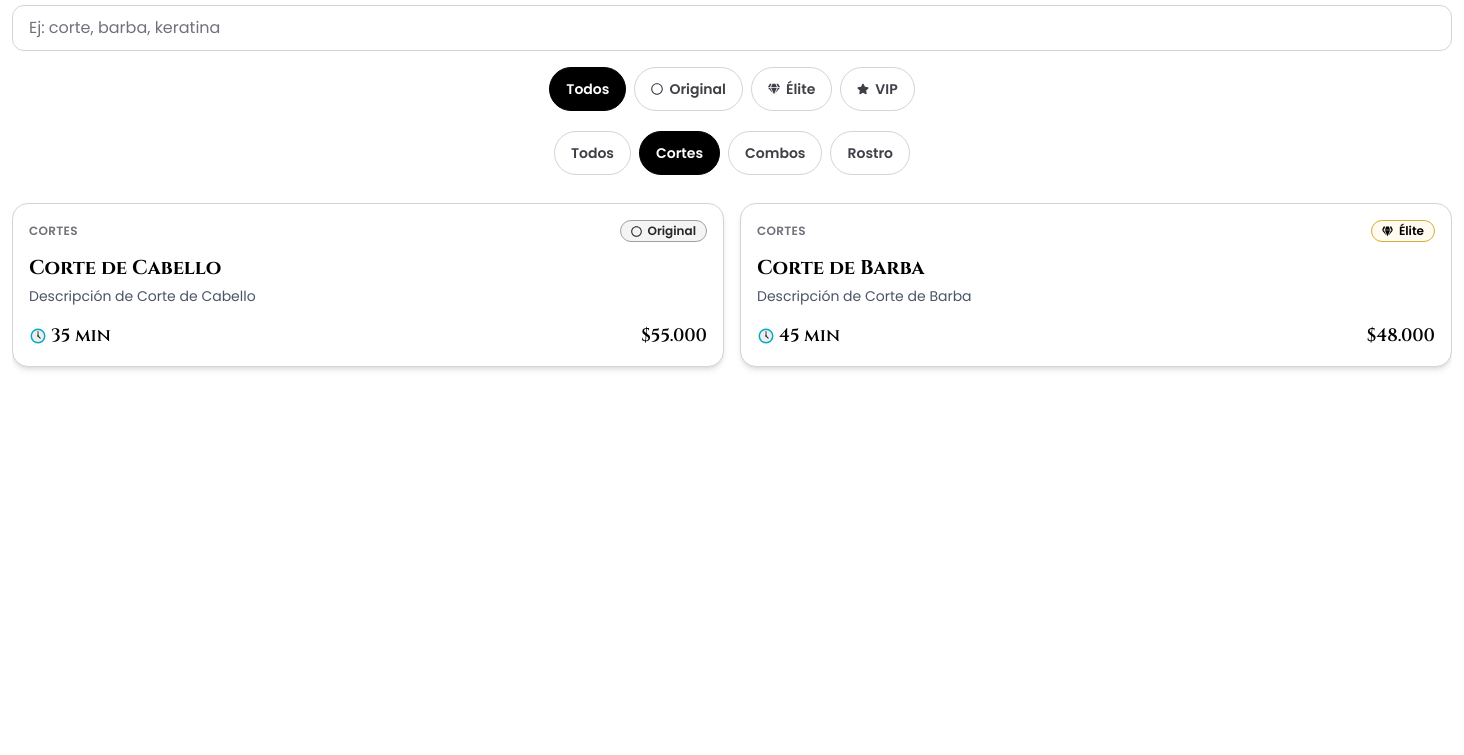
it: PasoServicio — filtros, buscador y agrupación › con "Todos" muestra cada categoría con su <h3> y los nombres pasan a <h4>
Click the 2nd button "Todos": (592, 153) [554, 131, 631, 175]
(page scrolled)
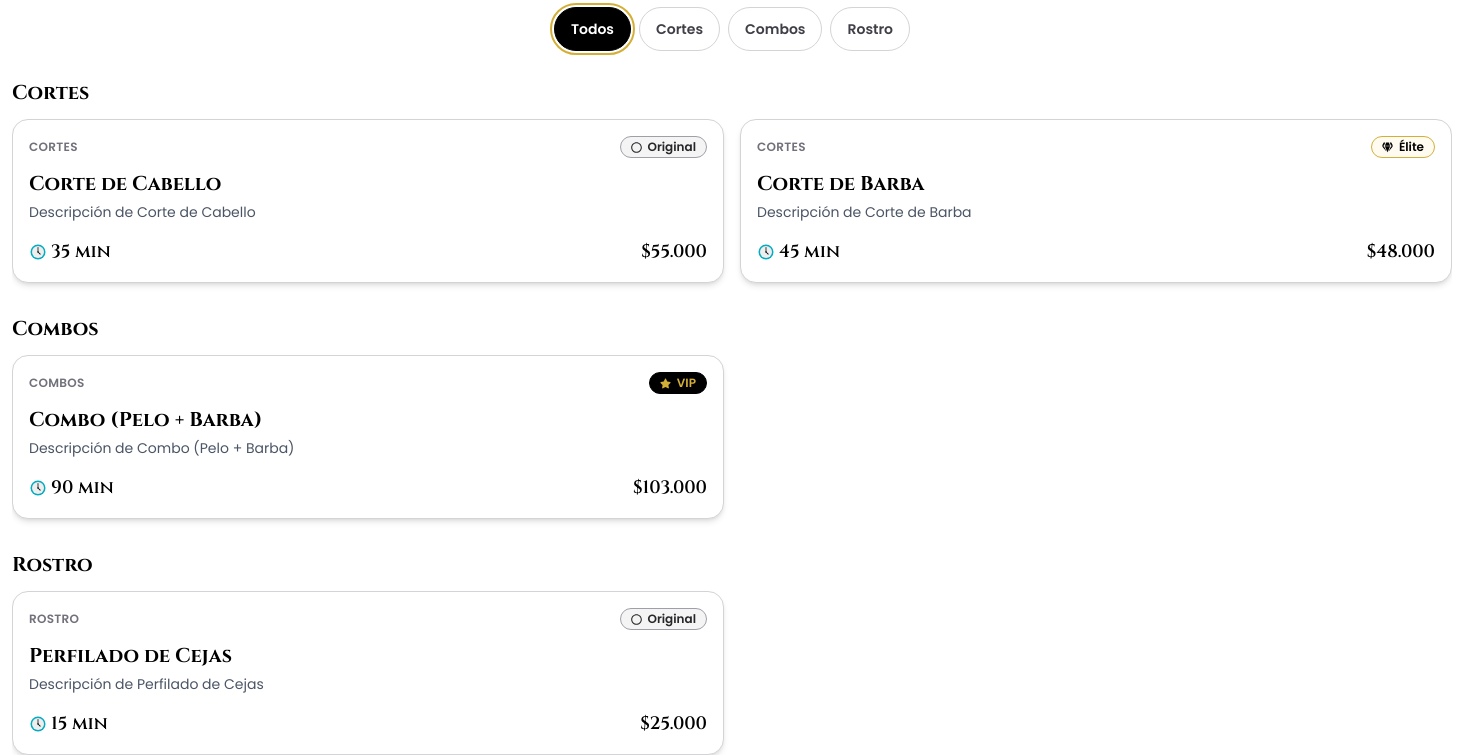
Now the heading "Cortes" is shown, box [12, 79, 89, 106]
Now the heading "Combos" is shown, box [12, 315, 99, 342]
Now the heading "Rostro" is shown, box [12, 551, 93, 578]
